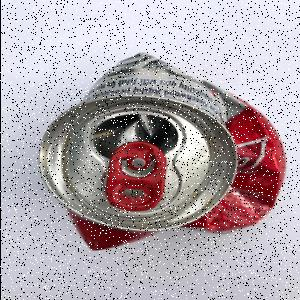Can: (39, 53, 289, 252)
